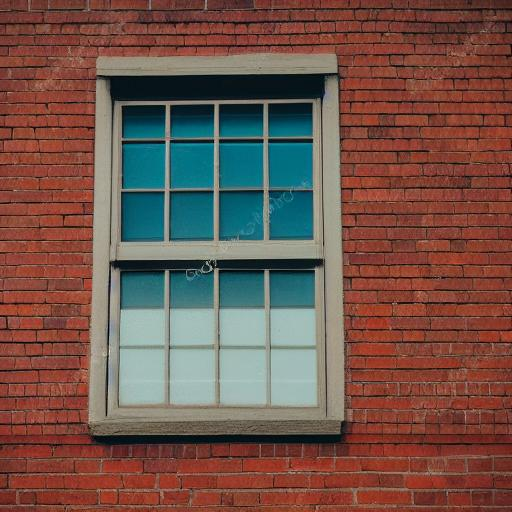Window: (88, 55, 348, 440)
